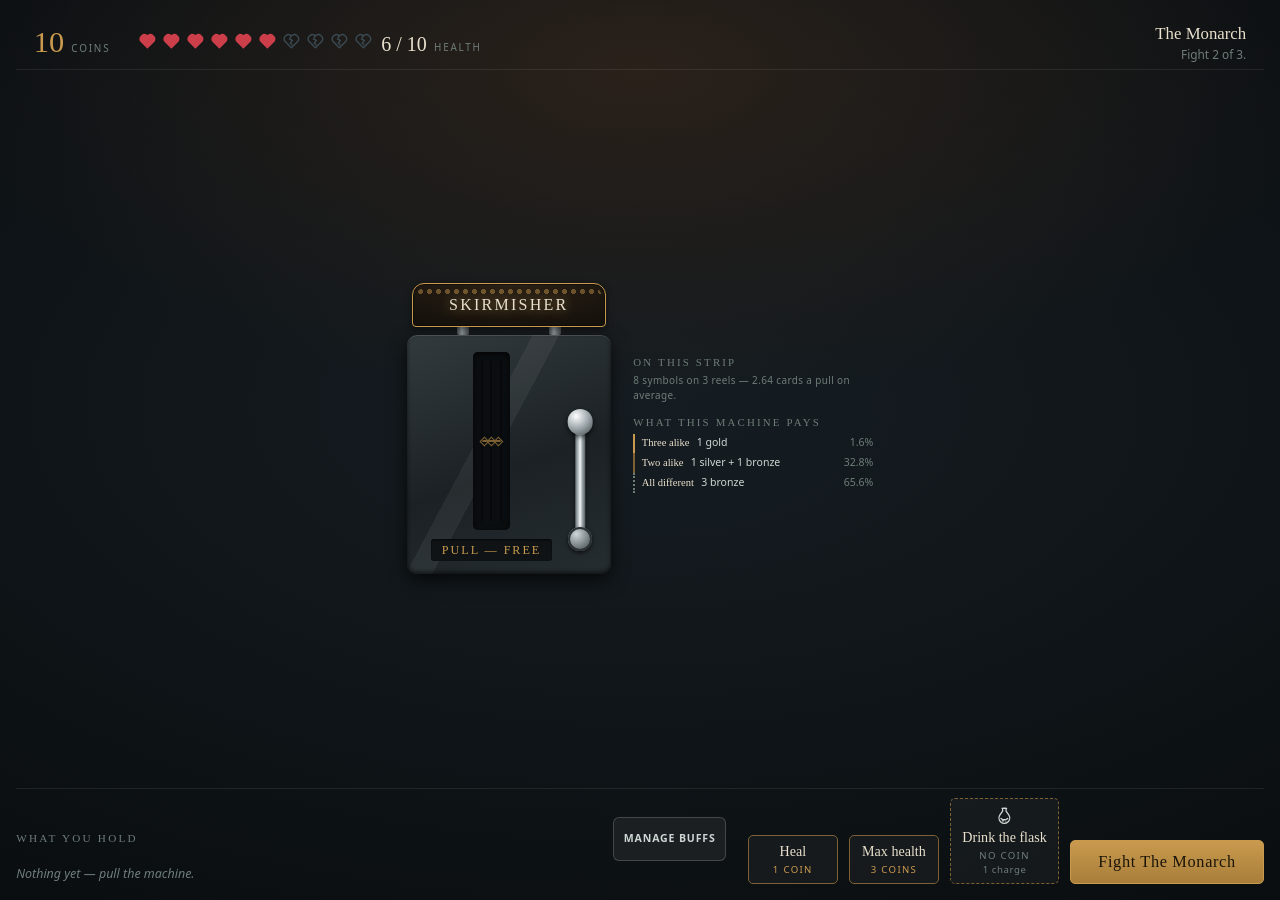
Test case: ShopPanel — a second click mid-flight (QA fix — DLR-157 review, Defender CRITICAL) › disables every buy control while a purchase is still airborne, so a second click cannot supersede and drop it
The image size is (1280, 900).
What coordinates should you click on to do the following:
click the button with aria-label "Heal — 1 coin"
I would click on:
 (793, 859)
Its box is top-left (748, 835), bottom-right (838, 884).
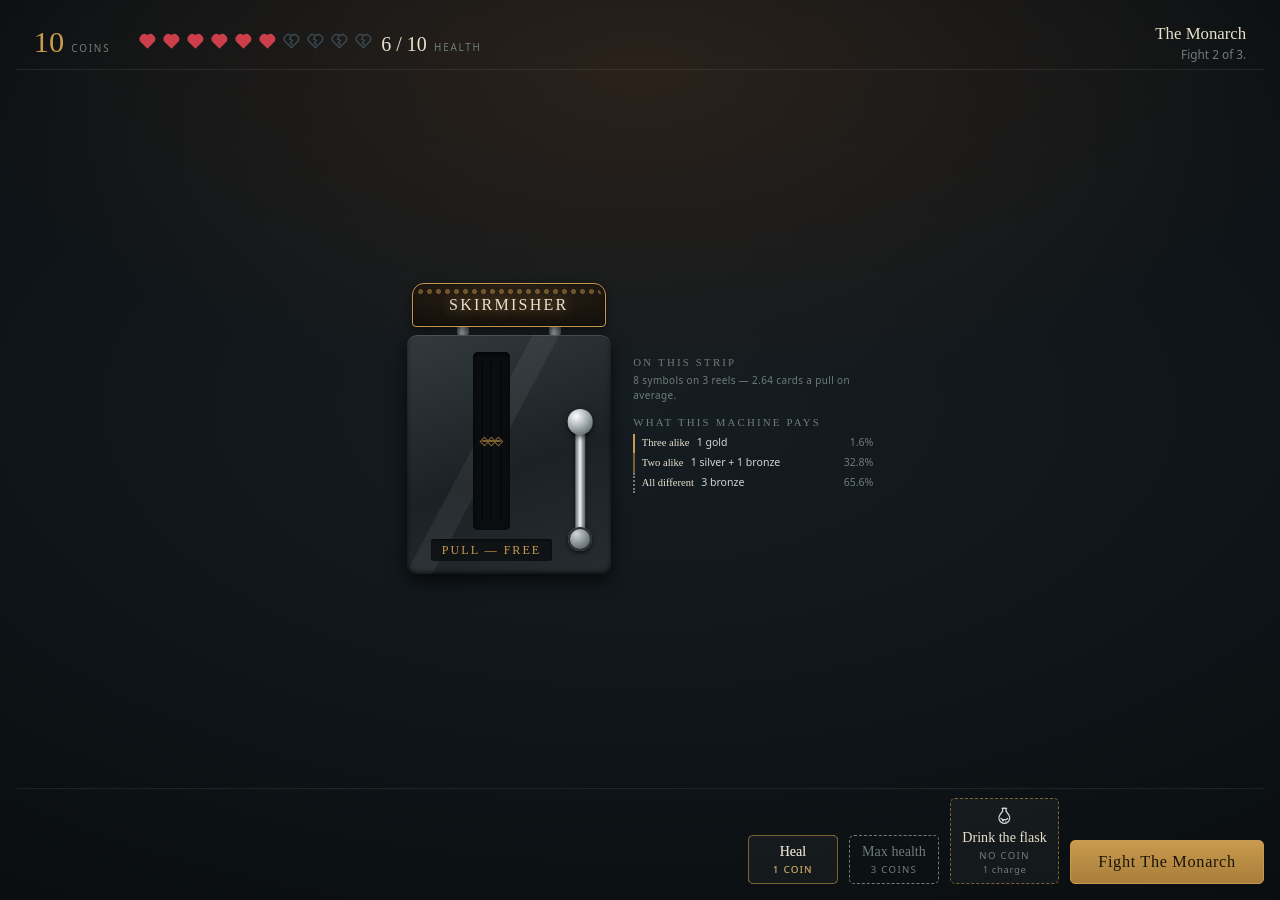
Expected: the button with aria-label "Heal — 1 coin" is disabled
What coordinates should you click on to do the following:
click the button with aria-label "Heal — 1 coin"
I would click on:
 (793, 859)
Its box is top-left (748, 835), bottom-right (838, 884).
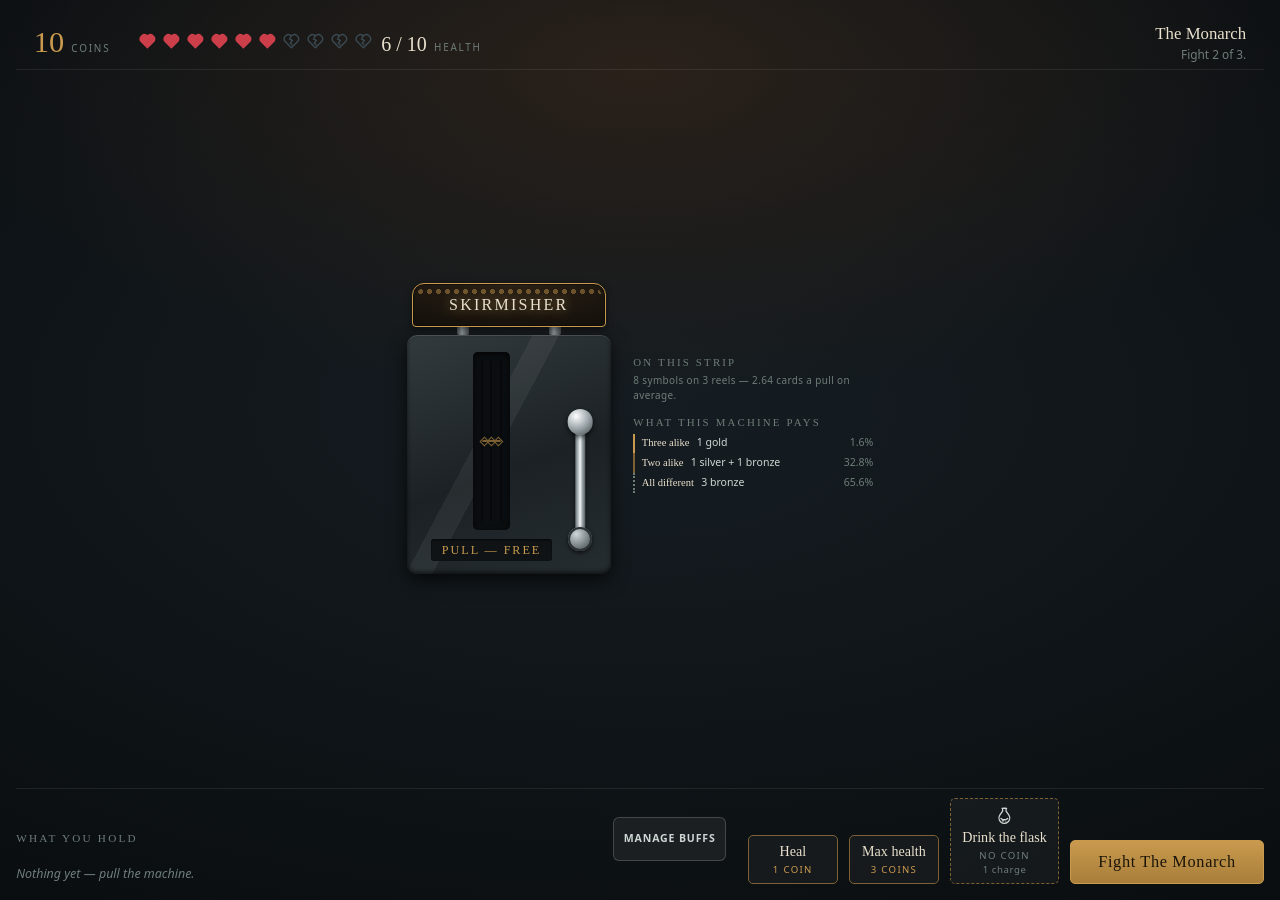
Expected: the button with aria-label "Heal — 1 coin" is enabled, top-left (748, 835), bottom-right (838, 884)
